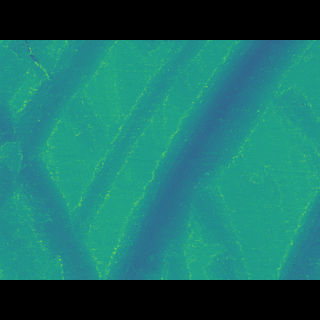Loch: (100, 69, 314, 250), (60, 69, 211, 219), (0, 114, 100, 250)
